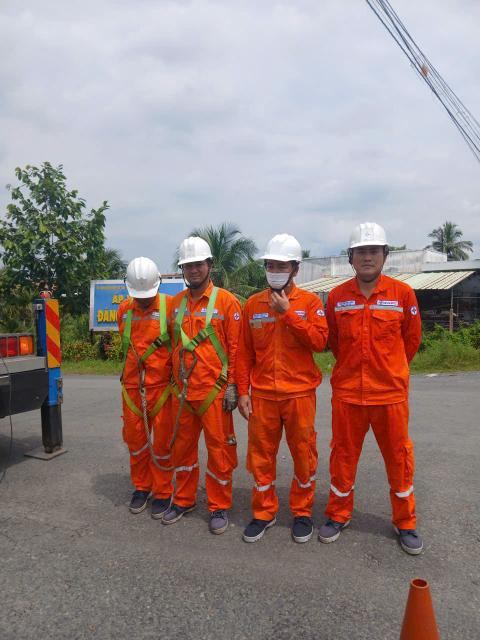gloves: (219, 381, 241, 415)
helmet: (113, 254, 179, 310), (252, 219, 310, 274), (327, 219, 400, 255), (175, 229, 214, 274)
shoes: (314, 501, 355, 547), (389, 517, 426, 557), (162, 488, 201, 523), (238, 508, 278, 542), (288, 509, 315, 549), (120, 484, 152, 515), (206, 503, 234, 537), (150, 486, 174, 519)
